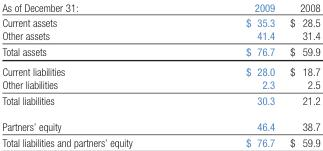table: (1, 1, 319, 148)
table column: (1, 1, 188, 148), (188, 1, 281, 148), (281, 1, 319, 148)
table column header: (1, 1, 319, 14)
table row: (1, 92, 319, 113), (1, 113, 319, 134), (1, 43, 319, 61), (1, 61, 319, 77), (1, 28, 319, 43), (1, 77, 319, 92), (1, 14, 319, 28), (1, 134, 319, 148), (1, 1, 319, 14)
